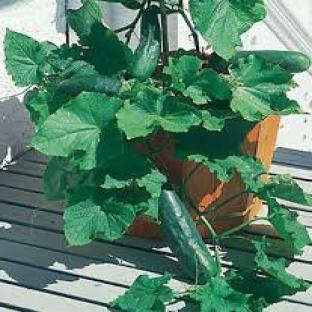Cucumber: (160, 191, 218, 283), (130, 6, 161, 80), (210, 50, 310, 72), (58, 75, 120, 95)
